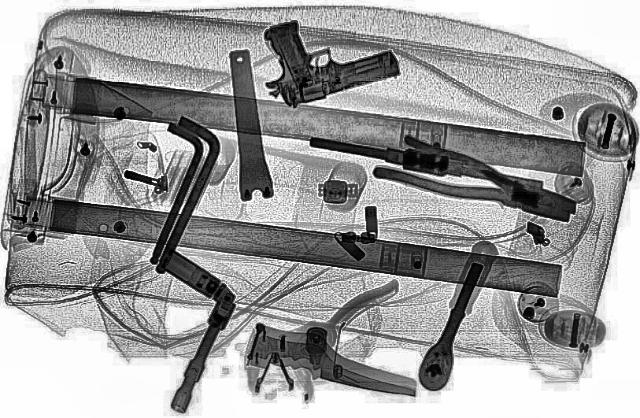Gun: (227, 4, 409, 108)
Pliers: (362, 130, 594, 230)
